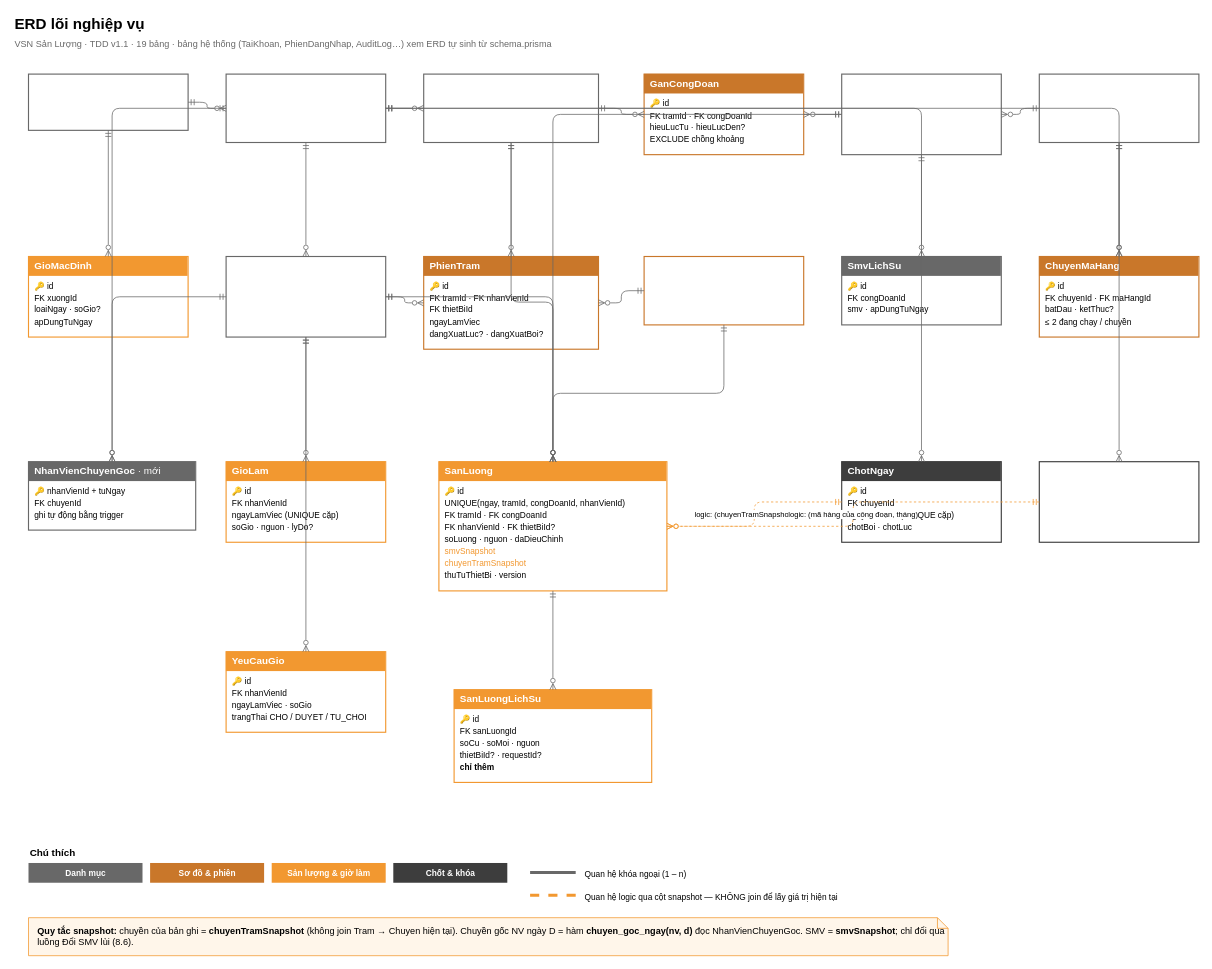
The diagram is 1212 pixels wide and 969 high, and some of its shapes have lost their labels. The shapes that lost their labels are listed below. From the top down, each one's centre as x and y in pixels, then its label:
(108,102): Xuong 🔑 id ma (UNIQUE) · ten
(305,108): Chuyen 🔑 id FK xuongId ma · ten · loai
(511,108): Tram 🔑 id (dùng cho QR) FK chuyenId — bất biến soTram · nhapQuaApp
(921,114): CongDoan 🔑 id FK maHangId ma · ten laCongDoanHoanThanh
(1118,108): MaHang 🔑 id ma · ten · khachHang soLuongDonHang
(305,296): NhanVien 🔑 id maNV (UNIQUE, text) hoTen FK chuyenId (gốc hiện tại)
(723,290): ThietBi 🔑 id tokenHash (UNIQUE) userAgent · lanCuoi
(1118,501): KhoaThang 🔑 id FK maHangId thang (UNIQUE cặp) trangThai KHOA / MO
